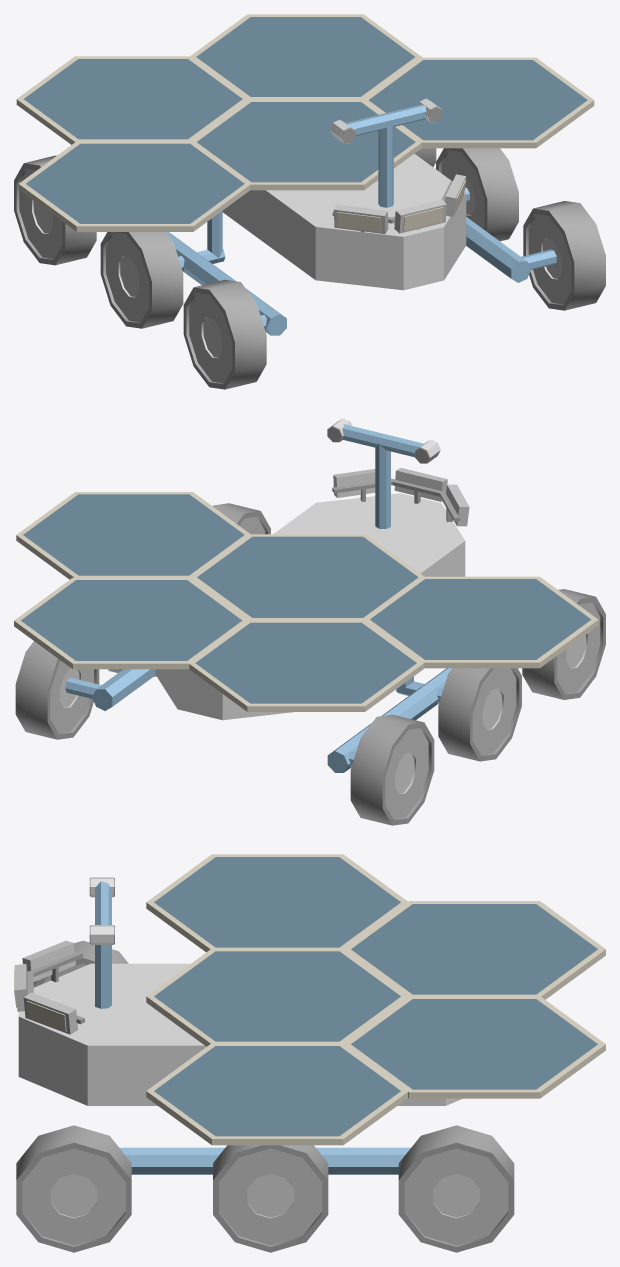
The model's file is moon rover_2.fbx.
The picture shows the model from 3 angles, top to bottom: view 1: azimuth 30°, elevation 25°; view 2: azimuth 150°, elevation 25°; view 3: azimuth 270°, elevation 25°; orthographic projection. The views are drawn at different scales.
Parts seen in each view (by area): view 1: Cube_1, Boole_1, Boole_1_2, Boole, Boole_2_2, Boole_2; view 2: Cube_1, Boole_2, Boole, Boole_2_3, Boole_1, Boole_1_2; view 3: Cube_1, Boole_2_3, Boole_1_2, Boole_2_2, Boole_1.
Boxes of the visible parts, x1,y1,x2,y2 form: Cube_1: (16, 14, 594, 335); Boole_1: (183, 279, 266, 389); Boole_1_2: (523, 201, 605, 310); Boole: (100, 232, 183, 328); Boole_2_2: (436, 148, 518, 241); Boole_2: (14, 155, 96, 265); Cube_1: (14, 418, 598, 772); Boole_2: (350, 714, 434, 825); Boole: (438, 668, 521, 761); Boole_2_3: (15, 641, 99, 739); Boole_1: (522, 589, 605, 699); Boole_1_2: (212, 503, 270, 534); Cube_1: (14, 854, 605, 1174); Boole_2_3: (398, 1125, 514, 1252); Boole_1_2: (16, 1125, 131, 1252); Boole_2_2: (213, 1145, 328, 1252); Boole_1: (33, 940, 128, 987).
Size of the model in its own units: 273 by 112 by 239.
